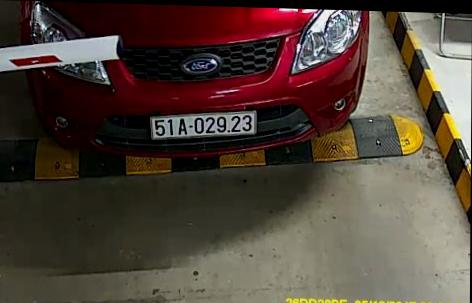License_Plate: (141, 106, 264, 142)
